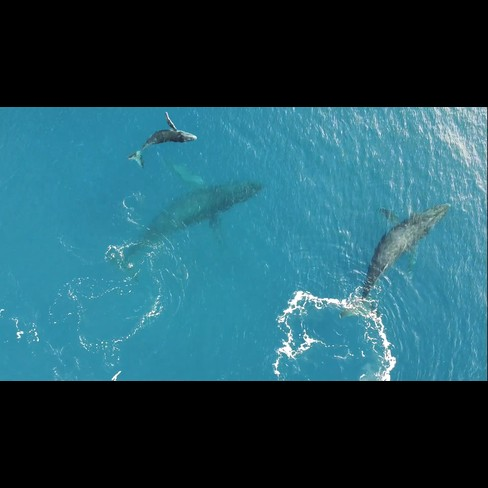hump: (109, 161, 269, 289), (342, 194, 454, 319), (117, 109, 203, 178)
